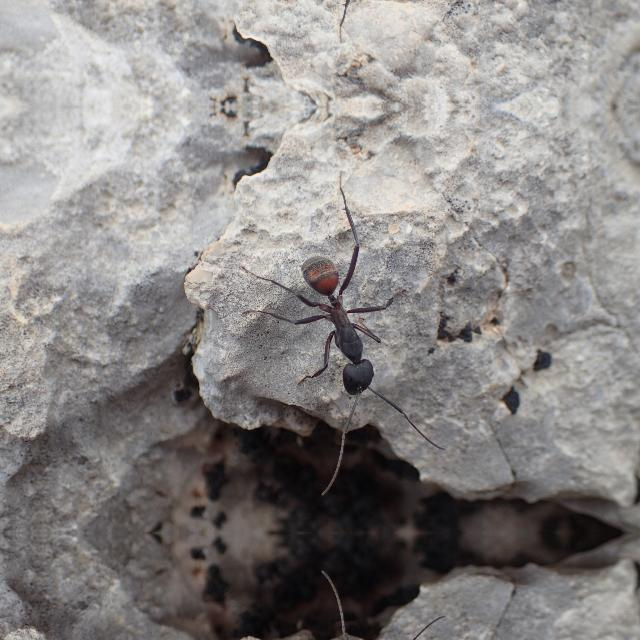Camponotus: (258, 246, 422, 422)
